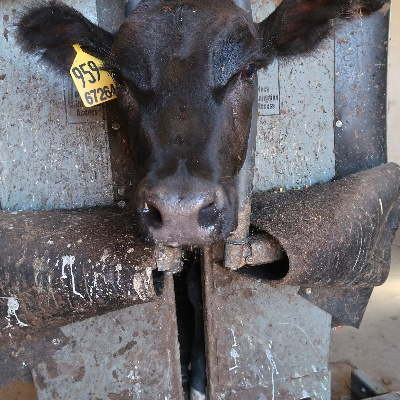fidget_spinner: (131, 184, 229, 254)
